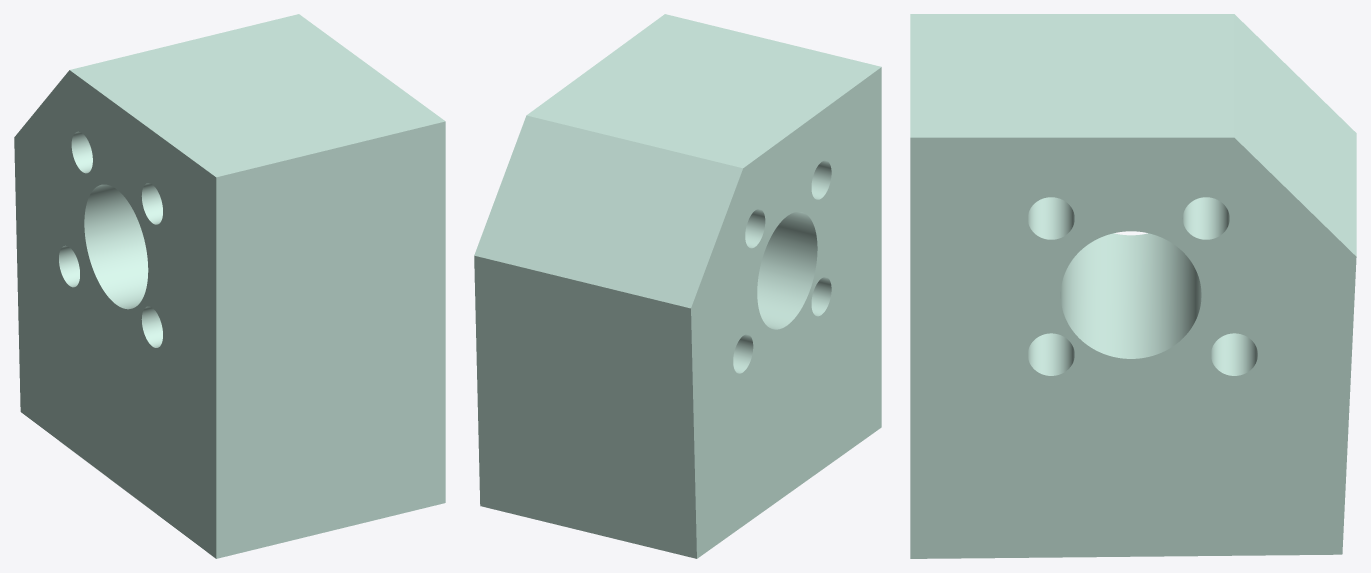
The picture shows the model from 3 angles, left to right: view 1: azimuth 30°, elevation 25°; view 2: azimuth 150°, elevation 25°; view 3: azimuth 270°, elevation 25°; orthographic projection. The views are drawn at different scales.
Parts seen in each view (by area): view 1: Renderer Node; view 2: Renderer Node; view 3: Renderer Node.
Part boxes in pixels (x1,y1,x2,y2): Renderer Node: (14, 14, 445, 558); Renderer Node: (474, 14, 881, 558); Renderer Node: (910, 14, 1356, 558).
Bounding box in the file's own units: 0.4766 × 0.7572 × 0.7266.
